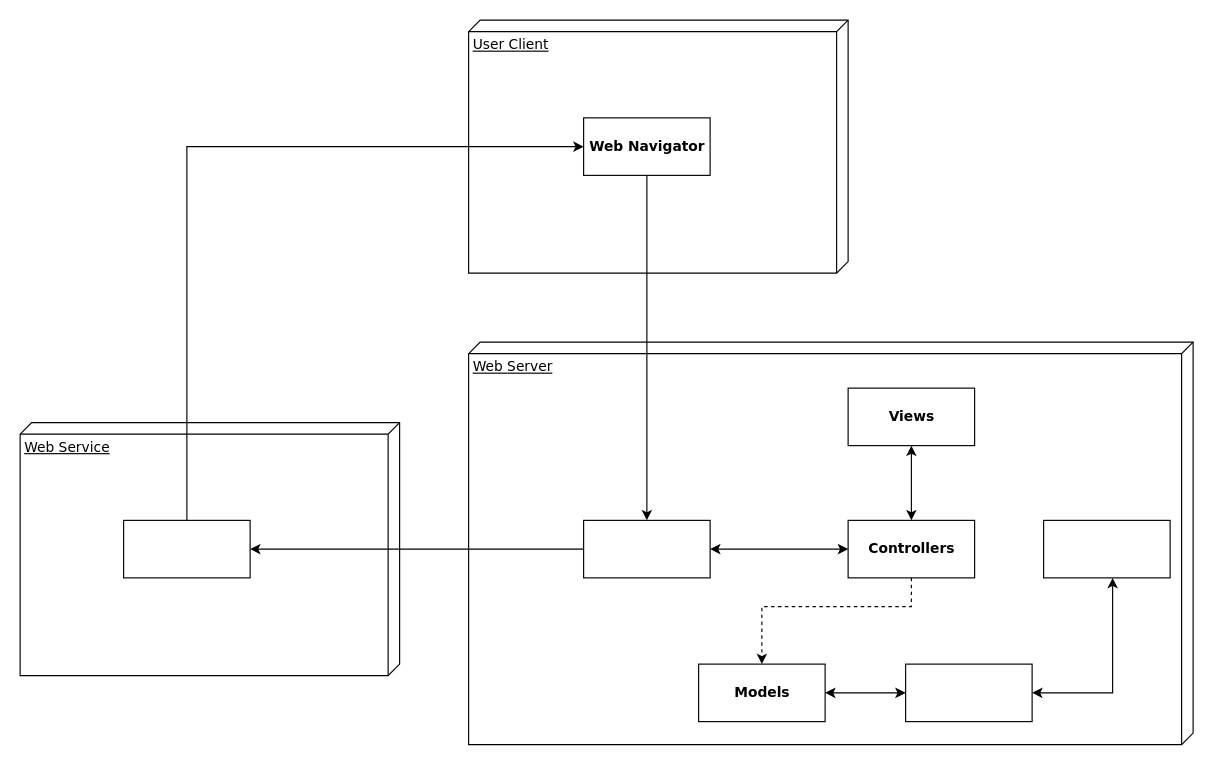
Some shapes in this 1213 by 765 pixel diagram are drawn without their labels. The box of each missing label's shape, as (x1, y1, x2, y2) in pixels:
AWS EDUCATE: (122, 519, 250, 578)
Models Eloquent: (904, 663, 1032, 722)
MySQL DB: (1042, 519, 1170, 578)
Routes: (582, 519, 710, 578)
